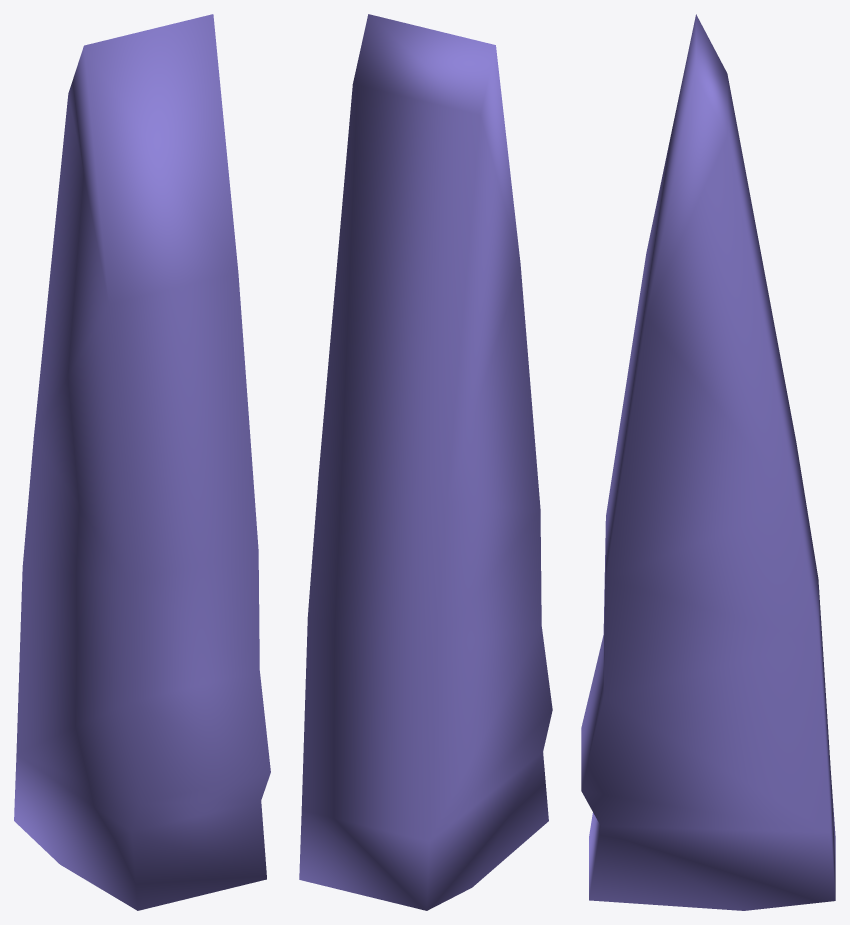
File: Rock_Cone_SPR_COL.fbx
The picture shows the model from 3 angles, left to right: view 1: azimuth 30°, elevation 25°; view 2: azimuth 150°, elevation 25°; view 3: azimuth 270°, elevation 25°; orthographic projection.
Visible parts, largest first — view 1: Rock_Cone_SPR_COL; view 2: Rock_Cone_SPR_COL; view 3: Rock_Cone_SPR_COL.
Part boxes in pixels (x1,y1,x2,y2): Rock_Cone_SPR_COL: (14,14,270,910); Rock_Cone_SPR_COL: (299,14,552,910); Rock_Cone_SPR_COL: (581,14,835,910).
Bounding box in the file's own units: 66.62 × 412 × 114.
